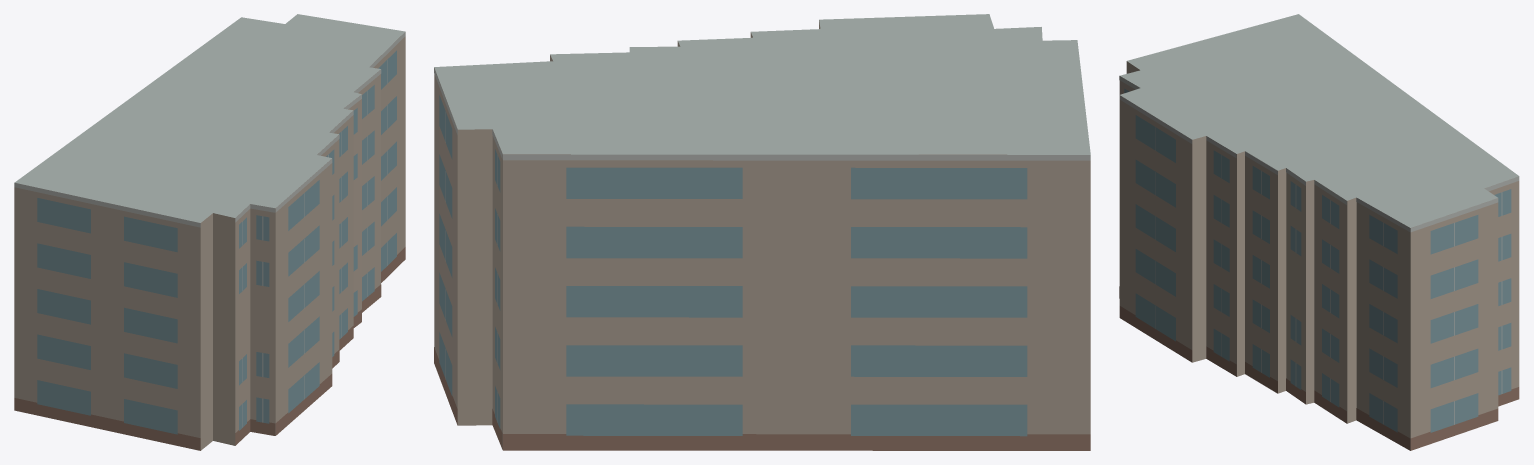
The model's file is survey-upis-32660515.glb.
The picture shows the model from 3 angles, left to right: view 1: azimuth 30°, elevation 25°; view 2: azimuth 150°, elevation 25°; view 3: azimuth 270°, elevation 25°; orthographic projection. The views are drawn at different scales.
Visible parts, largest first — view 1: survey-upis-32660515.tmp; view 2: survey-upis-32660515.tmp; view 3: survey-upis-32660515.tmp.
Boxes of the visible parts, x1,y1,x2,y2 form: survey-upis-32660515.tmp: [14, 14, 405, 450]; survey-upis-32660515.tmp: [434, 14, 1090, 450]; survey-upis-32660515.tmp: [1119, 14, 1519, 450].
Bounding box in the file's own units: 25.13 × 12.2 × 19.84.
